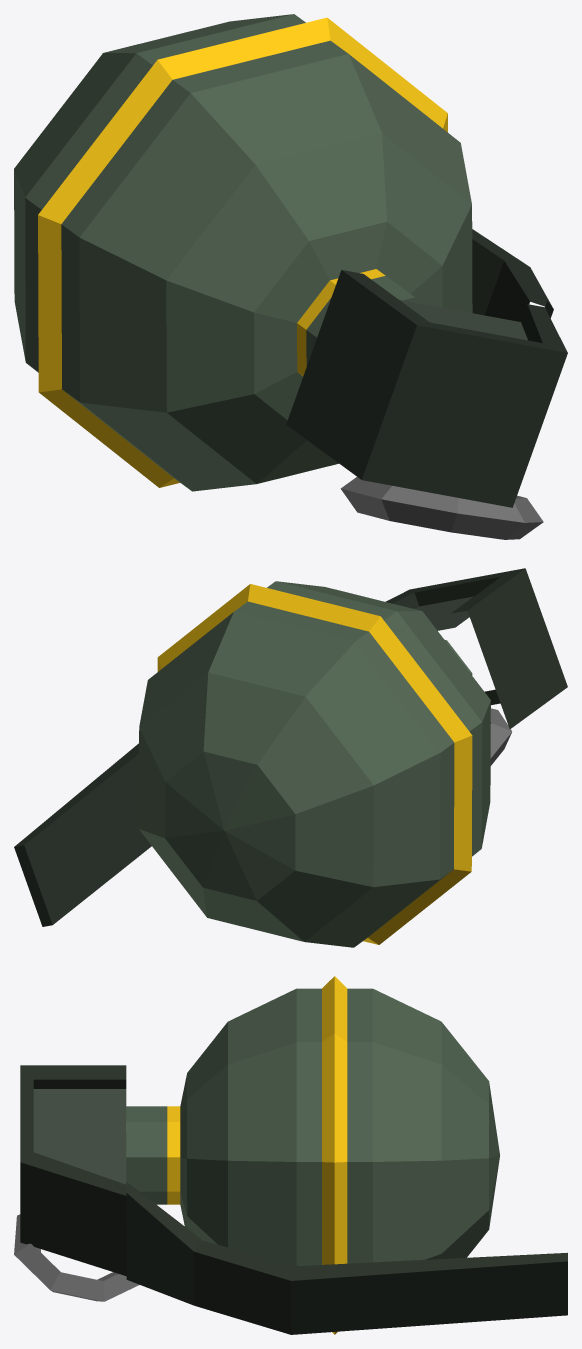
The model's file is Frag_3D.glb.
3 views of the same model, one above another, from view 1: azimuth 30°, elevation 25°; view 2: azimuth 150°, elevation 25°; view 3: azimuth 270°, elevation 25° (orthographic). The views are drawn at different scales.
Parts seen in each view (by area): view 1: FragGrenade (1); view 2: FragGrenade (1); view 3: FragGrenade (1).
Part boxes in pixels (x1,y1,x2,y2): FragGrenade (1): [14, 14, 567, 539]; FragGrenade (1): [14, 568, 567, 947]; FragGrenade (1): [14, 976, 567, 1334].
Bounding box in the file's own units: 0.1276 × 0.1136 × 0.1893.
Materials: 1 (1 with a texture image).
